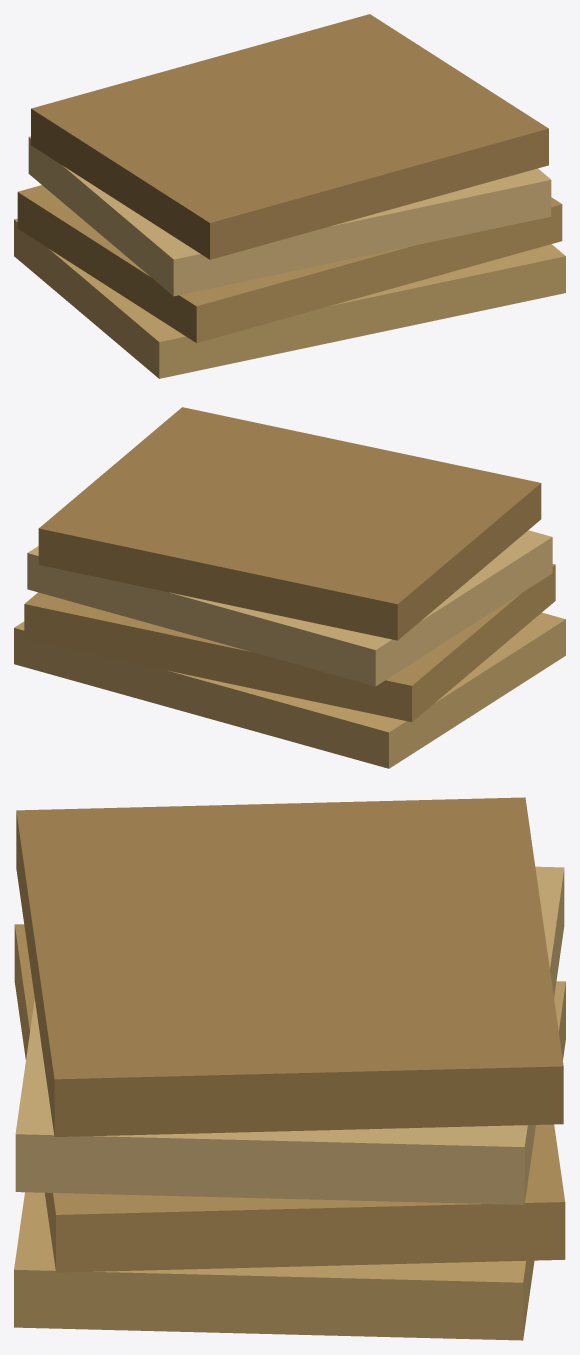
The model's file is ledger-books.glb.
3 renders of one model, top to bottom at view 1: azimuth 30°, elevation 25°; view 2: azimuth 150°, elevation 25°; view 3: azimuth 270°, elevation 25°, orthographic. The views are drawn at different scales.
Bounding box in the file's own units: 0.2915 × 0.106 × 0.2164.
